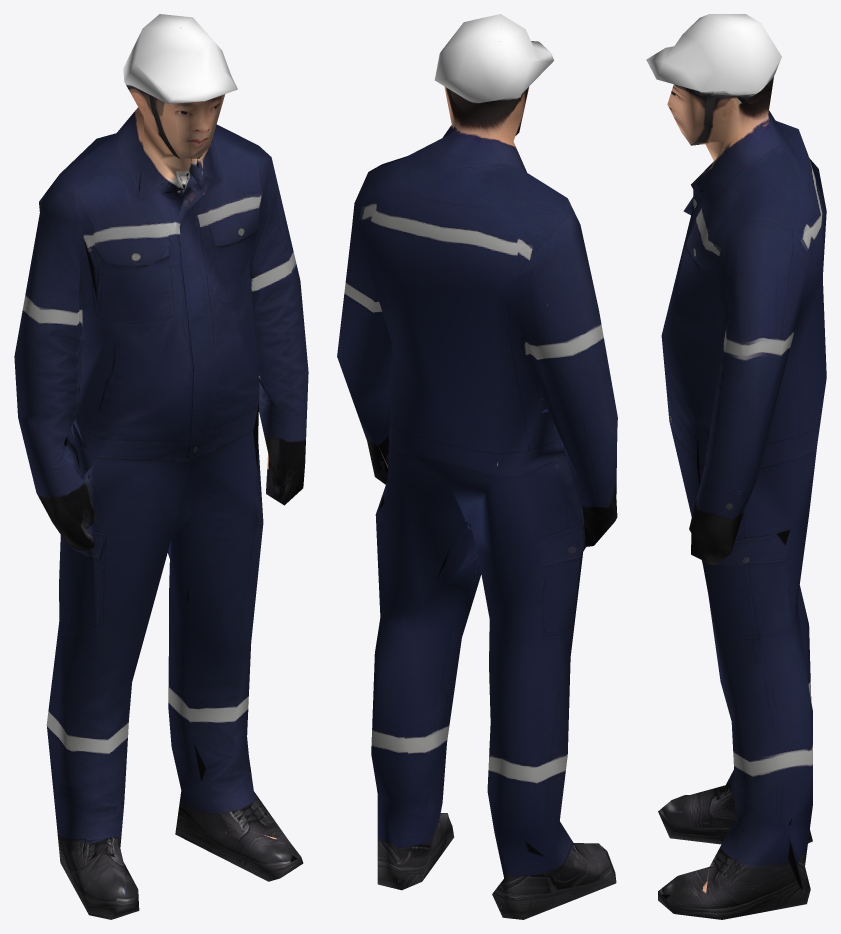
File: StandingWorker_optimized.glb
3 renders of one model, left to right at view 1: azimuth 30°, elevation 25°; view 2: azimuth 150°, elevation 25°; view 3: azimuth 270°, elevation 25°, orthographic.
Visible parts, largest first — view 1: Mesh1.0; view 2: Mesh1.0; view 3: Mesh1.0.
Boxes of the visible parts, <box> form: Mesh1.0: <box>14,14,308,919</box>; Mesh1.0: <box>337,14,617,919</box>; Mesh1.0: <box>646,14,826,919</box>.
Size of the model in its own units: 0.6696 by 1.99 by 0.3805.
Materials: 1 (1 with a texture image).
